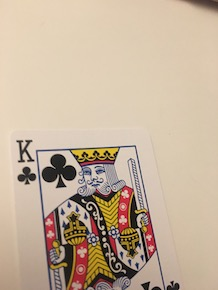KingOfClubs: (5, 124, 197, 290)
